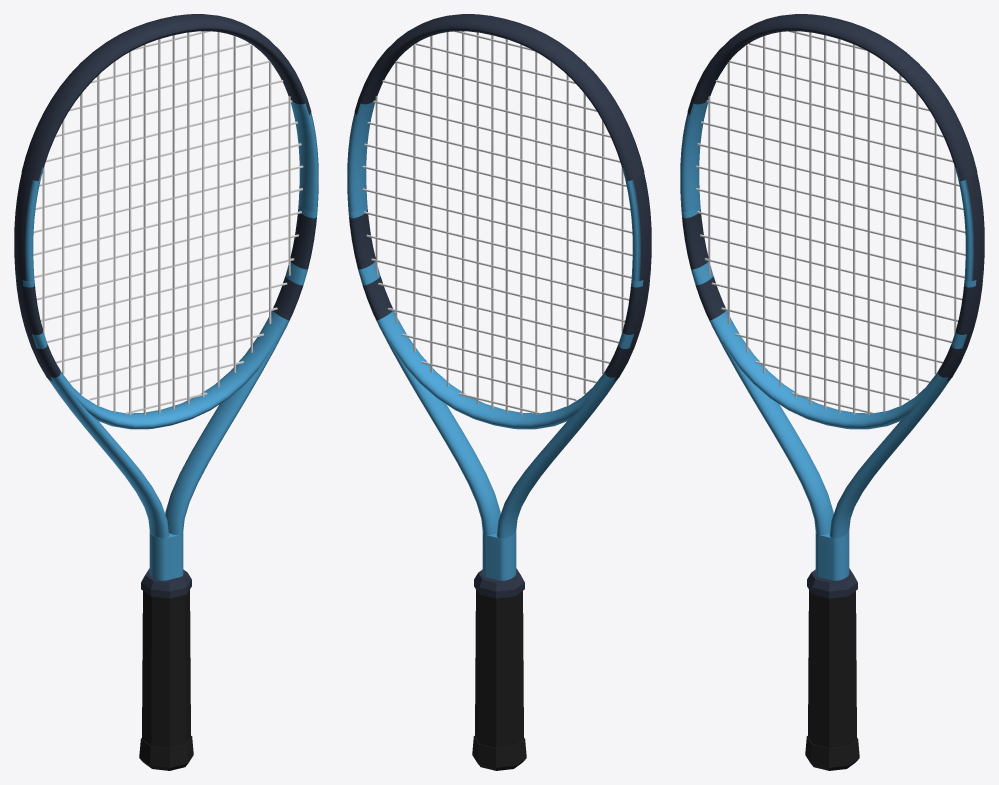
File: babolat-drive-junior-25-2025.glb
3 views of the same model, side by side, from view 1: azimuth 30°, elevation 25°; view 2: azimuth 150°, elevation 25°; view 3: azimuth 330°, elevation 25° (orthographic).
Parts seen in each view (by area): view 1: frame, strings_mains, strings_crosses, grip, bumper, grommets, butt_cap, collar; view 2: frame, strings_mains, strings_crosses, grip, bumper, grommets, butt_cap, collar; view 3: frame, strings_mains, strings_crosses, grip, bumper, grommets, butt_cap, collar.
Part boxes in pixels (x1,y1,x2,y2): frame: [14, 28, 318, 580]; strings_mains: [42, 31, 290, 414]; strings_crosses: [33, 31, 303, 414]; grip: [142, 590, 190, 747]; bumper: [21, 14, 311, 181]; grommets: [14, 173, 52, 381]; butt_cap: [139, 736, 193, 770]; collar: [141, 568, 191, 598]; frame: [347, 28, 651, 580]; strings_mains: [375, 31, 623, 414]; strings_crosses: [362, 31, 632, 414]; grip: [475, 590, 523, 747]; bumper: [354, 14, 644, 181]; grommets: [613, 173, 651, 381]; butt_cap: [472, 736, 526, 770]; collar: [474, 568, 524, 598]; frame: [680, 28, 984, 580]; strings_mains: [708, 31, 956, 414]; strings_crosses: [695, 31, 965, 414]; grip: [808, 590, 856, 747]; bumper: [687, 14, 977, 181]; grommets: [946, 173, 984, 381]; butt_cap: [805, 736, 859, 770]; collar: [807, 568, 857, 598].
Size of the model in its own units: 0.2677 by 0.6353 by 0.0396.
